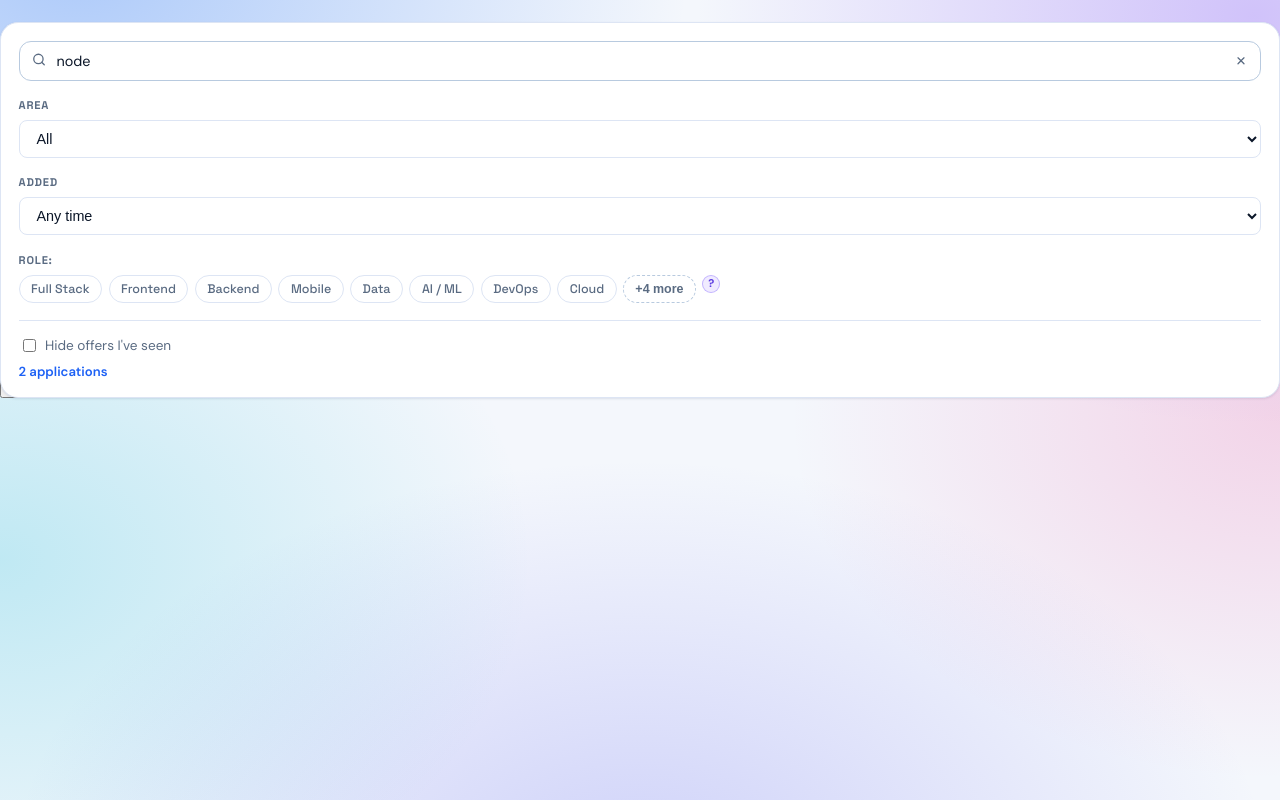
Scenario: Sidebar › clears the search immediately with the clear button
Click the button named "Clear" at (1241, 61), box x1=1225 y1=45 x2=1256 y2=76
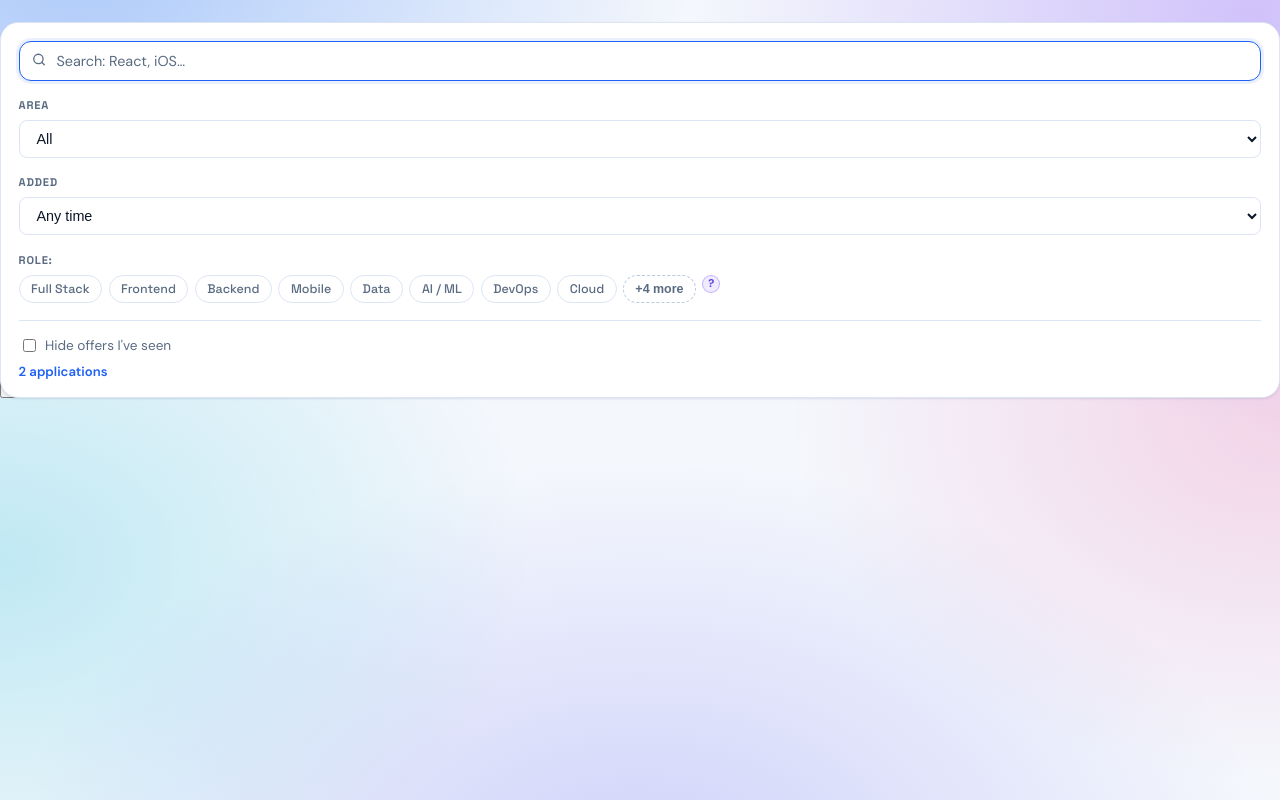
Result: the dropdown labelled "Search: React, iOS…" is empty at x1=19 y1=41 x2=1261 y2=81
